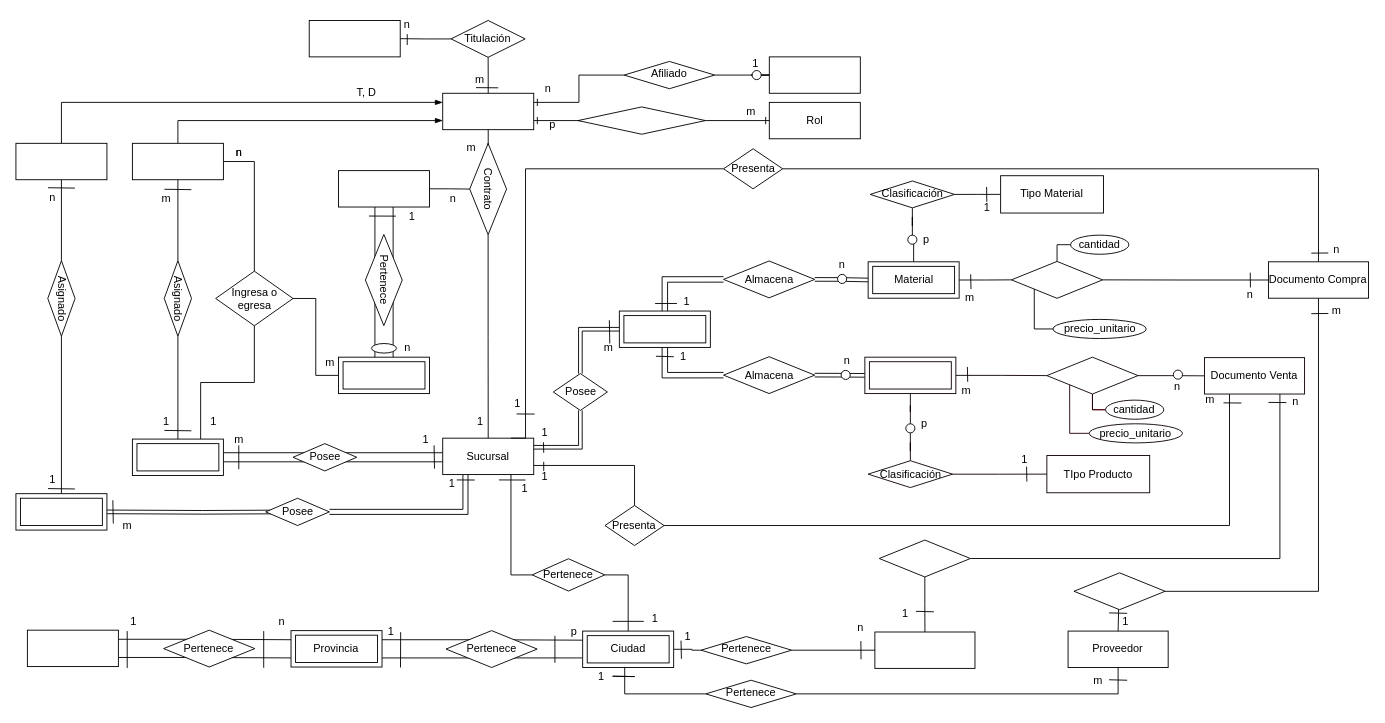
This 1385x723 diagram has some shape labels left out. The centre of each missing label's shape, as x and y in pixels:
Almacen: the point at 664,328
Area: the point at 61,511
Central Sindical: the point at 814,74
Cliente: the point at 924,649
Compra: the point at 1119,591
Detalle Compra: the point at 1057,279
Detalle Venta: the point at 1092,375
Empleado: the point at 488,111
Fecha: the point at 384,188
Hora: the point at 384,375
Investigador: the point at 177,161
Laboratorio: the point at 177,456
Pais: the point at 72,648
Personal Planta: the point at 61,161
Producto: the point at 910,375
Responsabilidad: the point at 641,120
Titulo: the point at 354,38
Venta: the point at 924,558
